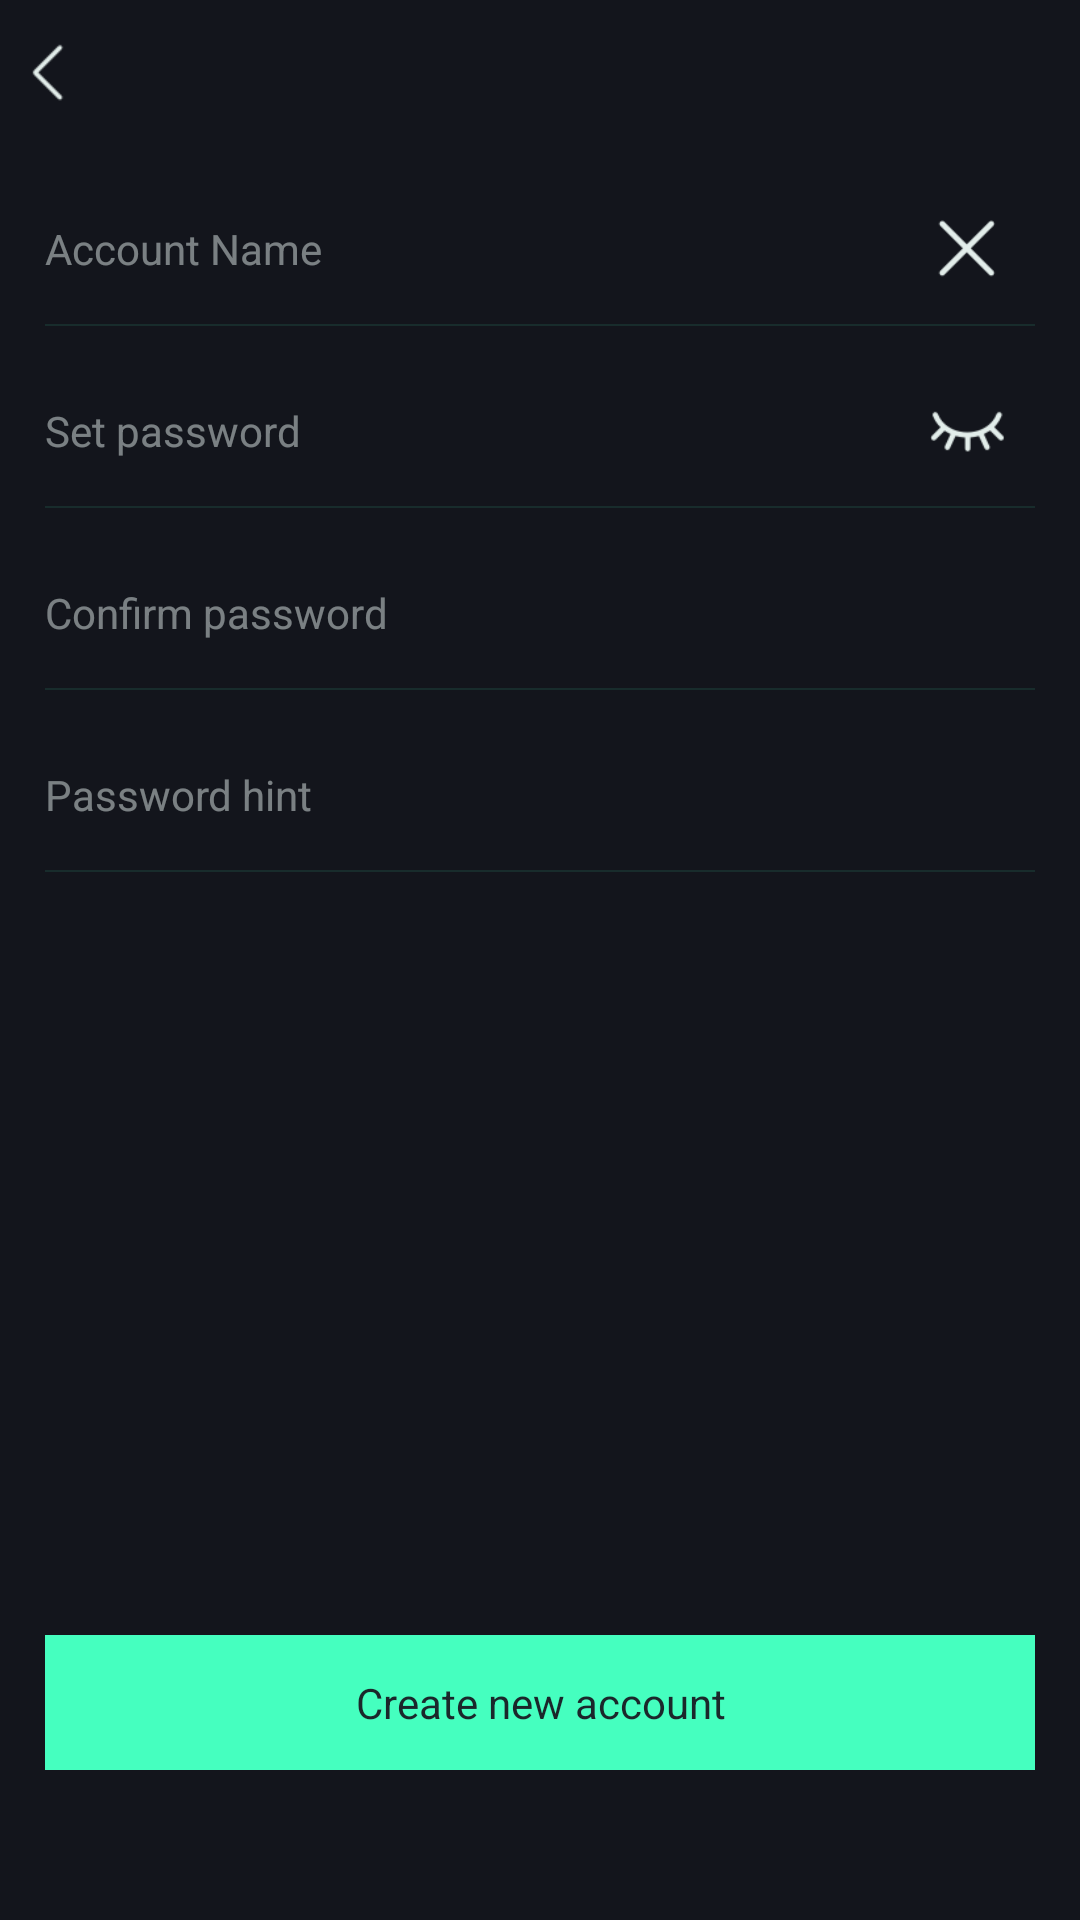

Where icons sit on this 1080 x 1920 app screen, as (x1, y1, x2, y2):
back: (32, 45, 63, 101)
close: (939, 220, 995, 277)
eye close: (931, 411, 1004, 452)
